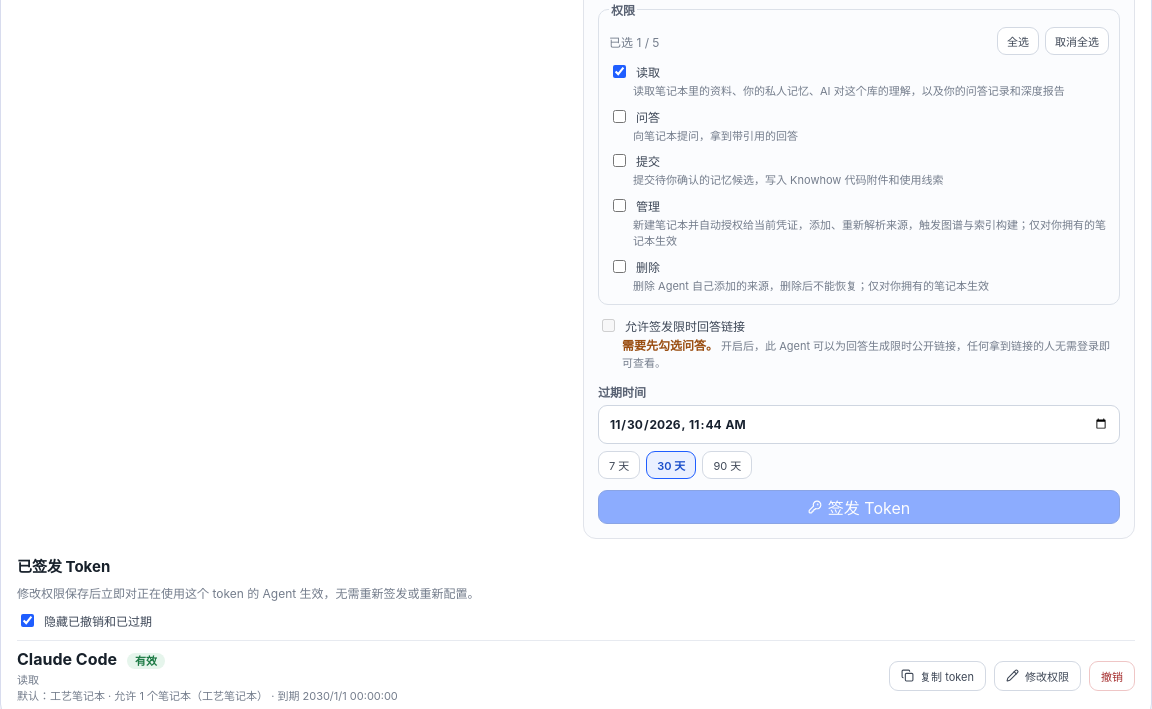
Test: 409 冲突时错误留在编辑行内并重拉列表,以服务端现状为准
(page scrolled)
Expected: the text "Claude Code" is shown, [17, 648, 117, 668]
Click the button "修改权限" at (1038, 676), box [994, 660, 1081, 690]
(page scrolled)
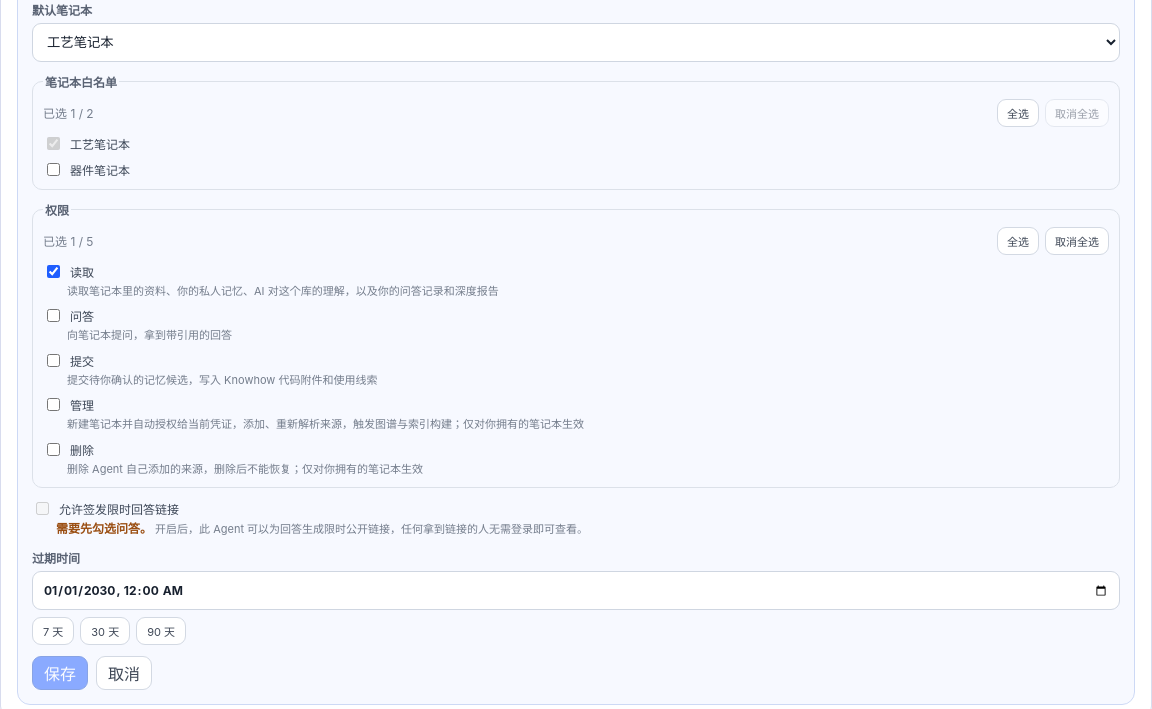
Click the checkbox labelled "提交" at (54, 360), box [47, 354, 60, 366]
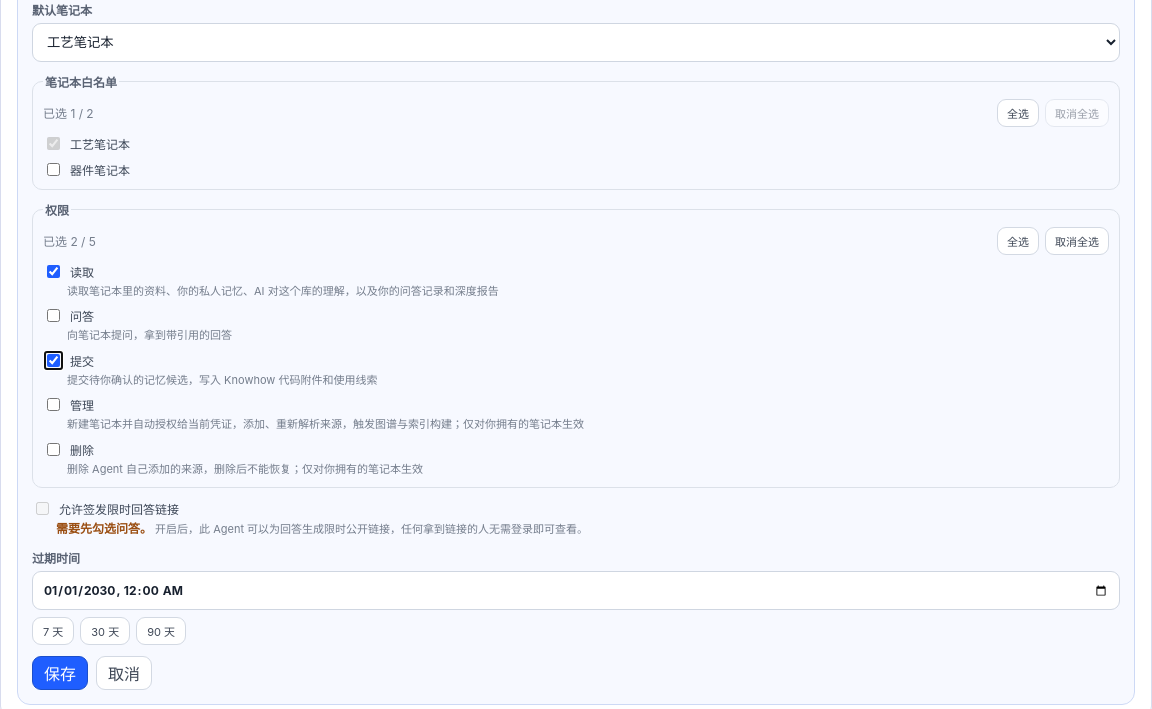
Click the button "保存" at (60, 673), box [32, 656, 88, 690]
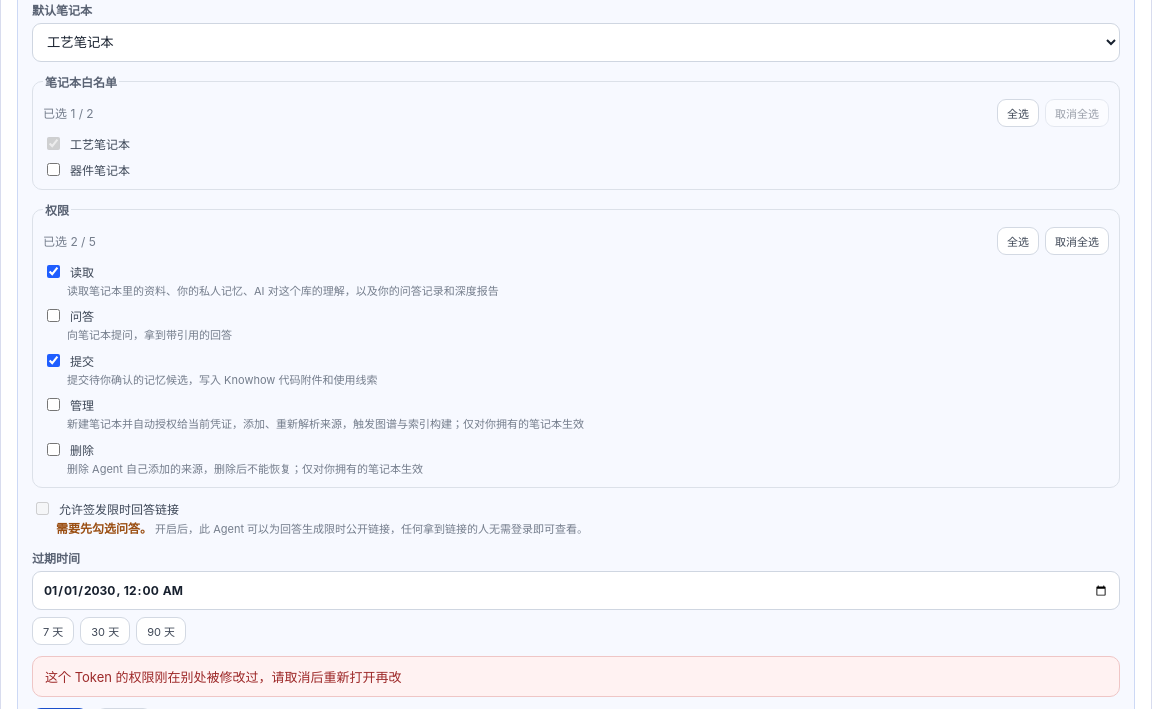
Expected: the message shows "这个 Token 的权限刚在别处被修改过", [45, 669, 402, 685]
